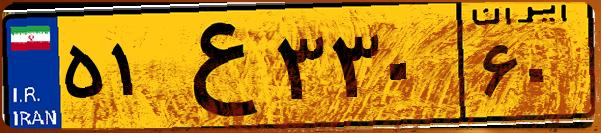0: (385, 28, 445, 110), (525, 38, 570, 115)
1: (110, 28, 158, 98)
3: (270, 28, 330, 110), (330, 28, 385, 110)
5: (57, 26, 110, 100)
6: (475, 38, 525, 113)
ع: (158, 12, 270, 120)
